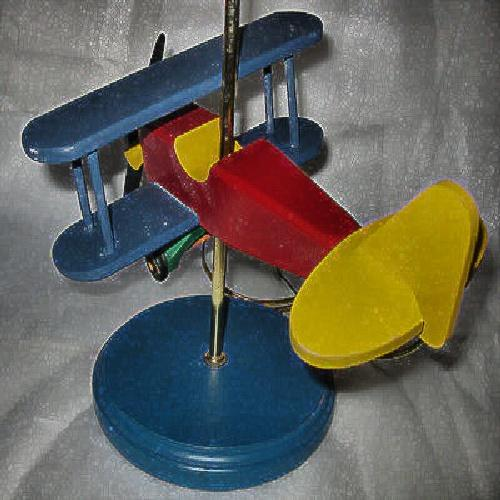lamp: (40, 66, 442, 454)
